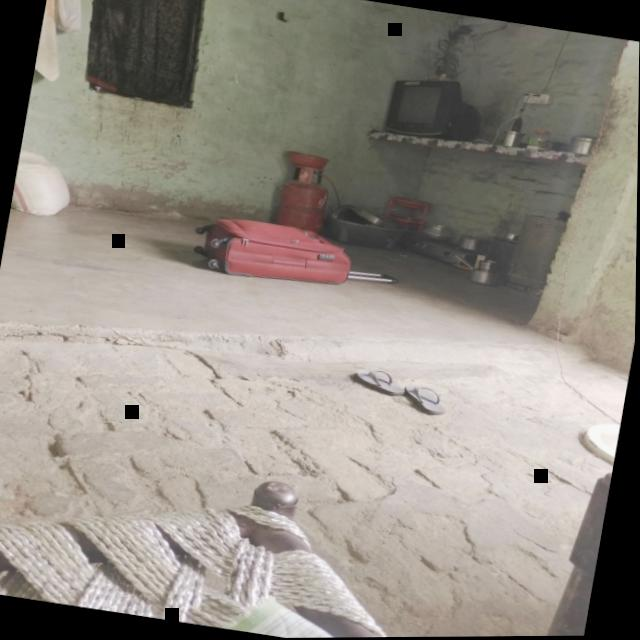luggage: (194, 210, 361, 294)
